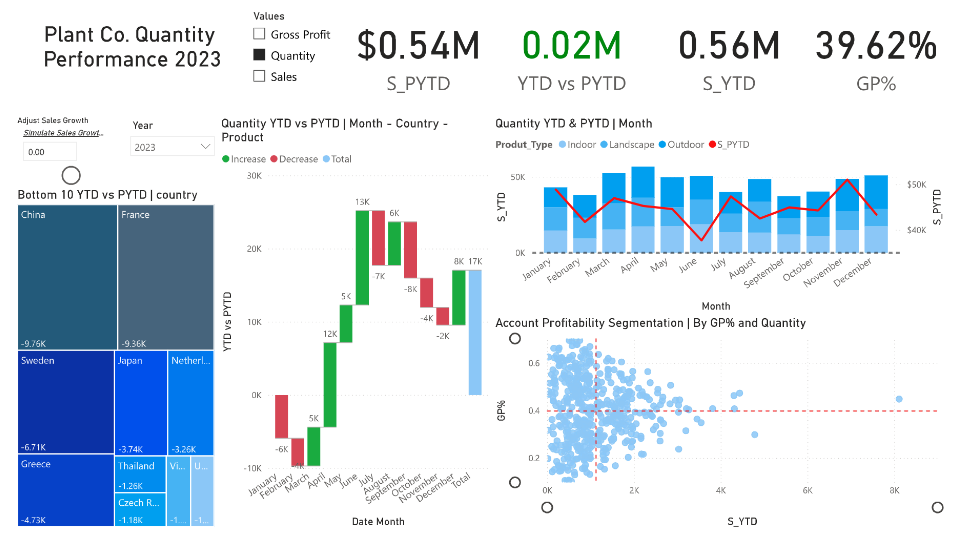

This screenshot's page, from the dashboard's own definition file:
{"tool":"powerbi","page":{"name":"Page 1","canvas":[1280,720],"ordinal":0},"visuals":[{"type":"card","fields":{"Values":["_Measures.S_PYTD"]},"box":[453.3,0,203.3,126.7],"z":0},{"type":"card","fields":{"Values":["_Measures.GP%"]},"box":[1088.3,0,191.7,126.7],"z":1000},{"type":"card","fields":{"Values":["_Measures.S_YTD"]},"box":[876,0,212,126],"z":2000},{"type":"slicer","fields":{"Values":["Slc_Values.Values"]},"box":[315,0,126.7,126.7],"z":3000},{"type":"slicer","fields":{"Values":["Dim_Date.Date.Variation.Date Hierarchy.Year"]},"box":[150,150,136,98],"z":4000},{"type":"treemap","title":"Bottom 10 YTD vs PYTD | country","fields":{"Group":["Dim_Account.country"],"Values":["_Measures.YTD vs PYTD"]},"box":[0,248,280,472],"z":5000},{"type":"waterfallChart","fields":{"Y":["_Measures.YTD vs PYTD"],"Category":["Dim_Date.Date.Variation.Date Hierarchy.Month","Dim_Account.country","Dim_Product.Produt_Type","Dim_Product.Product_Name"]},"box":[280,150,376,570],"z":6000},{"type":"lineStackedColumnComboChart","fields":{"Category":["Dim_Date.Date.Variation.Date Hierarchy.Month"],"Series":["Dim_Product.Produt_Type"],"Y":["_Measures.S_YTD"],"Y2":["_Measures.S_PYTD"]},"box":[656,150,624,274],"z":7000},{"type":"card","fields":{"Values":["_Measures.YTD vs PYTD"]},"box":[656,0,220,126],"z":8000},{"type":"scatterChart","fields":{"Category":["Dim_Account.Account"],"X":["_Measures.S_YTD"],"Y":["_Measures.GP%"]},"box":[656,424,624,296],"z":9000},{"type":"slicer","title":"Adjust Sales Growth","fields":{"Values":["SalesGrowth.SalesGrowth"]},"box":[0,150,150,98.3],"z":10000},{"type":"textbox","box":[0,0,18,38],"z":11000},{"type":"card","fields":{"Values":["_Measures._Report title"]},"box":[0,0,326,126],"z":12000}]}

Visuals, with their boxes in screenshot pixels (x1, y1, x2, y2), scaled from the page's 1280x720 canvas onto the 970x546 screenshot:
card - _Measures.S_PYTD: {"x1": 344, "y1": 0, "x2": 498, "y2": 96}
card - _Measures.GP%: {"x1": 825, "y1": 0, "x2": 969, "y2": 96}
card - _Measures.S_YTD: {"x1": 664, "y1": 0, "x2": 824, "y2": 96}
slicer - Slc_Values.Values: {"x1": 239, "y1": 0, "x2": 335, "y2": 96}
slicer - Dim_Date.Date.Variation.Date Hierarchy.Year: {"x1": 114, "y1": 114, "x2": 217, "y2": 188}
"Bottom 10 YTD vs PYTD | country" treemap: {"x1": 0, "y1": 188, "x2": 212, "y2": 545}
waterfallChart - _Measures.YTD vs PYTD x Dim_Date.Date.Variation.Date Hierarchy.Month: {"x1": 212, "y1": 114, "x2": 497, "y2": 545}
lineStackedColumnComboChart - Dim_Date.Date.Variation.Date Hierarchy.Month x Dim_Product.Produt_Type: {"x1": 497, "y1": 114, "x2": 969, "y2": 322}
card - _Measures.YTD vs PYTD: {"x1": 497, "y1": 0, "x2": 664, "y2": 96}
scatterChart - Dim_Account.Account x _Measures.S_YTD: {"x1": 497, "y1": 322, "x2": 969, "y2": 545}
"Adjust Sales Growth" slicer: {"x1": 0, "y1": 114, "x2": 114, "y2": 188}
textbox: {"x1": 0, "y1": 0, "x2": 14, "y2": 29}
card - _Measures._Report title: {"x1": 0, "y1": 0, "x2": 247, "y2": 96}
